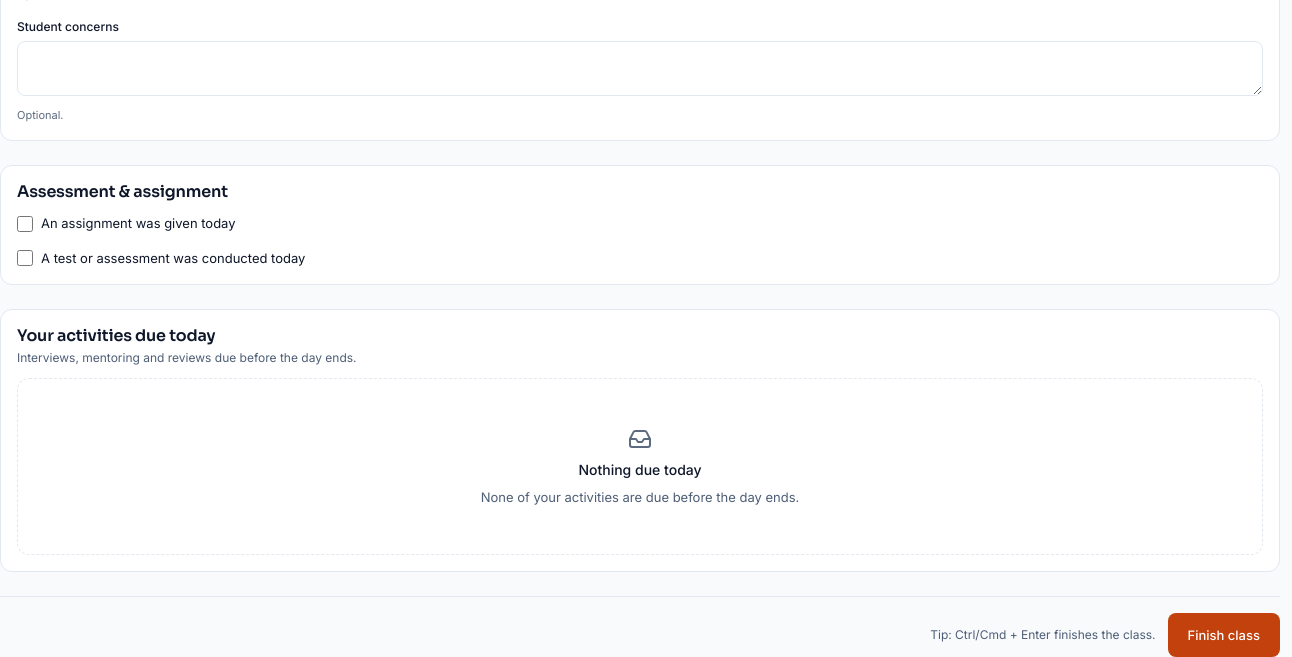
Test case: ClassWorkspace › a report validation error from the backend lands on the right field
(page scrolled)
Click the button "Finish class" at (1224, 635), box x1=1168 y1=613 x2=1280 y2=656
(page scrolled)
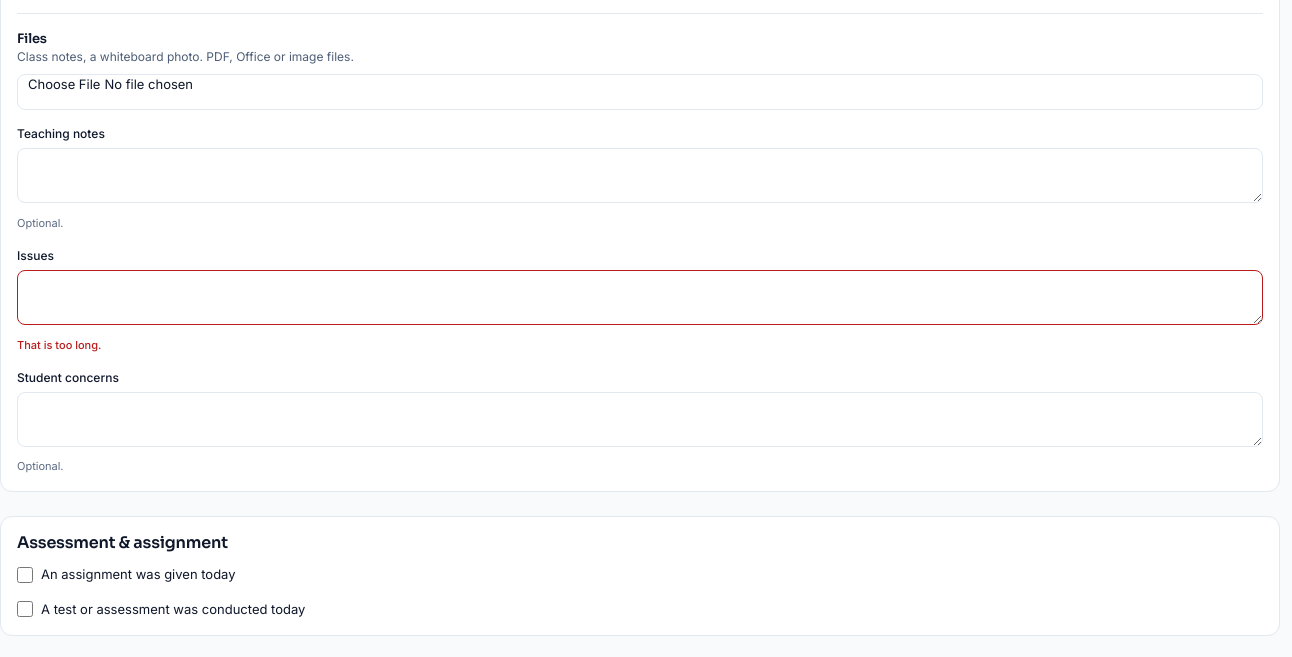
Check: the text "That is too long." is shown, box x1=17 y1=338 x2=101 y2=352
